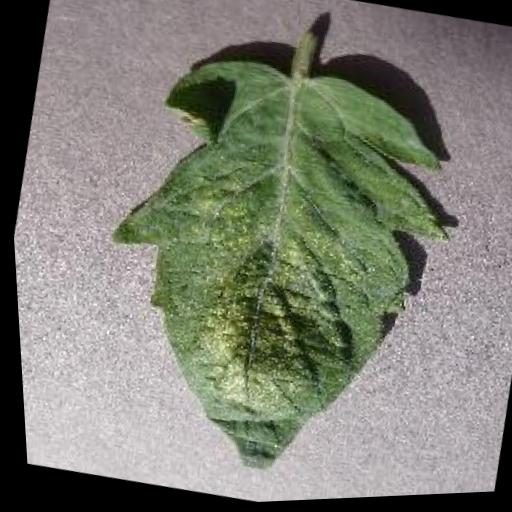Spider Mites: (58, 33, 485, 510)
